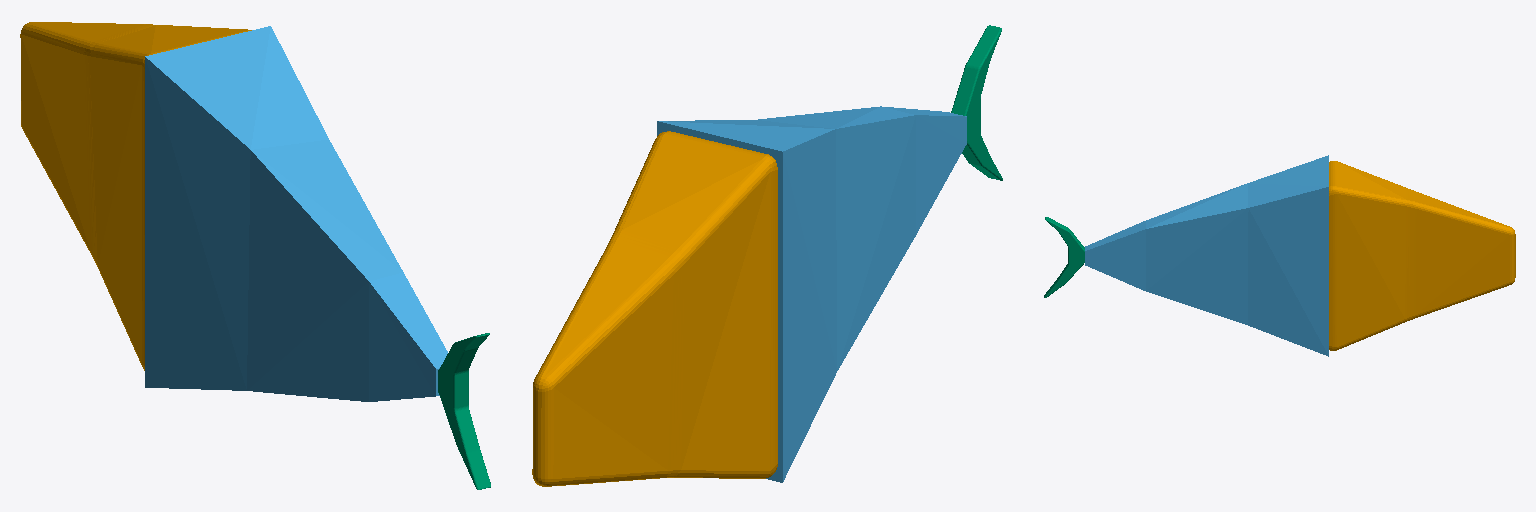
URDF robot description (fish6):
<?xml version="1.0" ?>
<!-- =================================================================================== -->
<!-- |    This document was autogenerated by xacro from Fish1.xacro                    | -->
<!-- |    EDITING THIS FILE BY HAND IS NOT RECOMMENDED                                 | -->
<!-- =================================================================================== -->
<robot name="fish6" xmlns:xacro="http://www.ros.org/wiki/xacro">
  <link name="base_link">
    <visual>
      <origin rpy="0 0 0" xyz="0 0 0"/>
      <geometry>
        <mesh filename="package://uwsim_models/uwsim_fish_urdf/Fish_models/Fish8_1.dae"/>
      </geometry>
    </visual>
  </link>

  <link name="body">
    <visual>
      <origin rpy="0 0 0" xyz="0 0 0"/>
      <geometry>
        <mesh filename="package://uwsim_models/uwsim_fish_urdf/Fish_models/Fish8_2.dae"/>
      </geometry>
    </visual>
  </link>

  <joint name="Slew" type="revolute">
    <parent link="base_link"/>
    <child link="body"/>
    <axis xyz="0 0 1"/>
    <origin rpy="0 0 0" xyz="0 0 0"/>
    <limit effort="1000.0" lower="-0.5" upper="0.5" velocity="1.0"/>
  </joint>

  <link name="tail">
    <visual>
      <origin rpy="0 0 0" xyz="0 0 0"/>
      <geometry>
        <mesh filename="package://uwsim_models/uwsim_fish_urdf/Fish_models/Fish8_Tail.dae"/>
      </geometry>
    </visual>
  </link>

  <joint name="Shoulder" type="revolute">
    <parent link="body"/>
    <child link="tail"/>
    <axis xyz="0 0 1"/>
    <origin rpy="0 0 0" xyz="0 -2.04 0"/>
    <limit effort="1000.0" lower="-0.5" upper="0.5" velocity="1.0"/>
  </joint>

</robot>

--- Render facts (derived) ---
The picture shows the robot from 3 angles, left to right: view 1: azimuth 30°, elevation 25°; view 2: azimuth 150°, elevation 25°; view 3: azimuth 270°, elevation 25°; orthographic projection.
Robot: fish6 — 3 links, 2 joints (2 revolute); root link base_link; default pose: all joints at 0.
Links seen in each view (by area): view 1: body, base_link, tail; view 2: base_link, body, tail; view 3: body, base_link, tail.
Link boxes in pixels (x1,y1,x2,y2): body: [145, 26, 447, 401]; base_link: [20, 22, 251, 370]; tail: [438, 333, 490, 489]; base_link: [532, 131, 777, 486]; body: [657, 106, 966, 482]; tail: [951, 25, 1002, 180]; body: [1085, 155, 1328, 356]; base_link: [1329, 161, 1515, 350]; tail: [1044, 217, 1084, 297].
Size in the robot's own frame: 0.6215 by 3.92 by 1.56 metres.
3 mesh visuals loaded from 3 distinct referenced files (3 Collada DAE).
